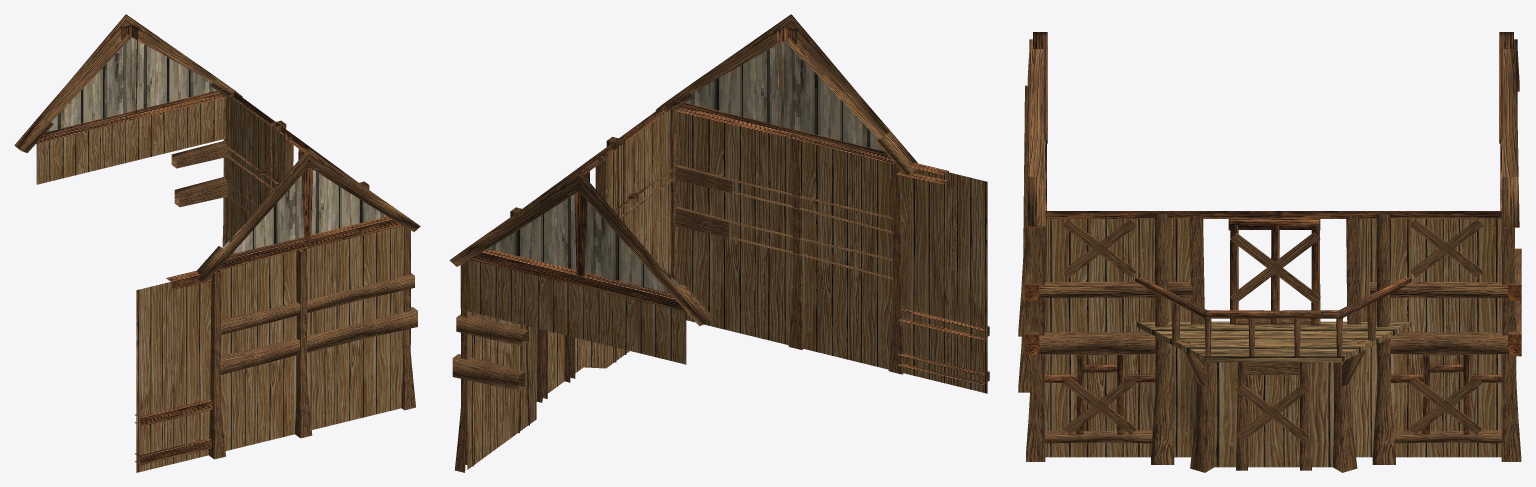
File: LAKETOWN_EXTERIOR_PS_LT_EMPTYHOUSE97__GX.fbx
The picture shows the model from 3 angles, left to right: view 1: azimuth 30°, elevation 25°; view 2: azimuth 150°, elevation 25°; view 3: azimuth 270°, elevation 25°; orthographic projection. The views are drawn at different scales.
Visible parts, largest first — view 1: LAKETOWN_EXTERIOR_PS_LT_EMPTYHOUSE97__GX; view 2: LAKETOWN_EXTERIOR_PS_LT_EMPTYHOUSE97__GX; view 3: LAKETOWN_EXTERIOR_PS_LT_EMPTYHOUSE97__GX.
Part boxes in pixels (x1,y1,x2,y2): LAKETOWN_EXTERIOR_PS_LT_EMPTYHOUSE97__GX: (14,14,420,472); LAKETOWN_EXTERIOR_PS_LT_EMPTYHOUSE97__GX: (449,14,989,472); LAKETOWN_EXTERIOR_PS_LT_EMPTYHOUSE97__GX: (1018,32,1521,472).
Size of the model in its own units: 109243 by 91898 by 110439.
Materials: 8 (8 with a texture image).
